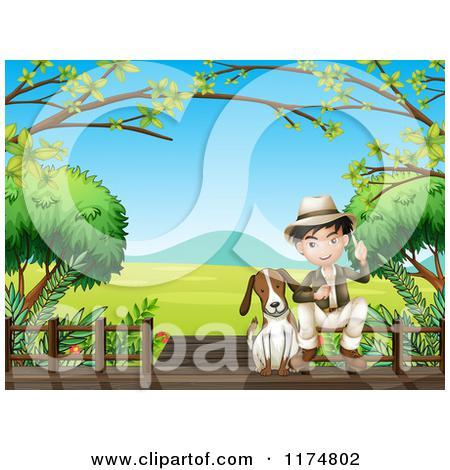dog: (232, 263, 314, 373)
person: (279, 193, 373, 375)
